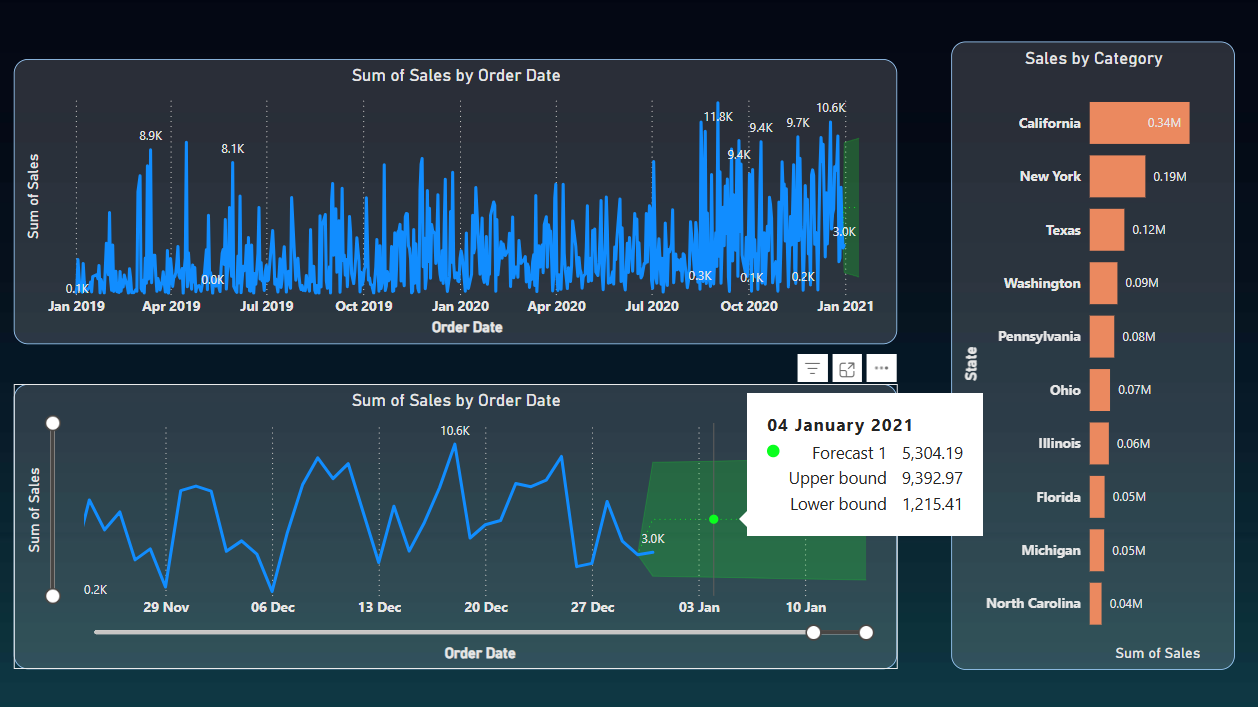

The page's visual inventory and layout, read from the dashboard file:
{"tool":"powerbi","page":{"name":"Page 2","canvas":[1280,720],"ordinal":1},"visuals":[{"type":"lineChart","fields":{"Y":["Sum(SuperStore_Sales_Dataset.Sales)"],"Category":["SuperStore_Sales_Dataset.Order Date"]},"box":[18.6,68.6,867.1,280],"z":0},{"type":"lineChart","fields":{"Y":["Sum(SuperStore_Sales_Dataset.Sales)"],"Category":["SuperStore_Sales_Dataset.Order Date"]},"box":[18.6,387.1,867.1,280],"z":1000},{"type":"clusteredBarChart","title":"Sales by Category","fields":{"Y":["Sum(SuperStore_Sales_Dataset.Sales)"],"Category":["SuperStore_Sales_Dataset.State"]},"box":[938.6,51.4,278.6,617.1],"z":2000}]}

Visuals, with their boxes in screenshot pixels (x1, y1, x2, y2), scaled from the page's 1280x720 canvas onto the 1258x707 screenshot:
lineChart - Sum(SuperStore_Sales_Dataset.Sales) x SuperStore_Sales_Dataset.Order Date: locate(18, 67, 870, 342)
lineChart - Sum(SuperStore_Sales_Dataset.Sales) x SuperStore_Sales_Dataset.Order Date: locate(18, 380, 870, 655)
"Sales by Category" clusteredBarChart: locate(922, 50, 1196, 656)
